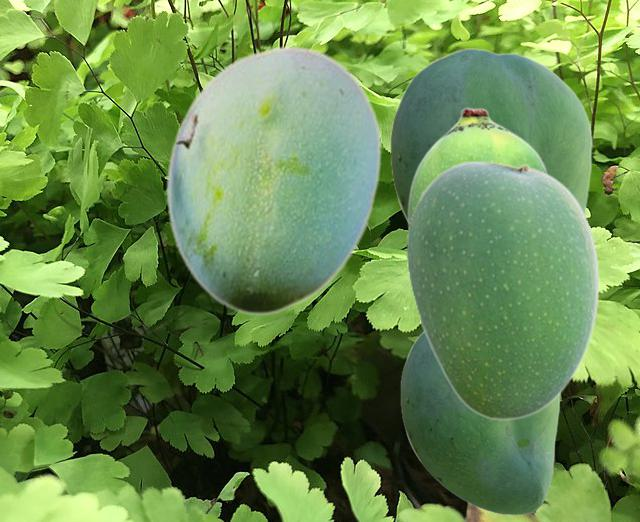green_mango: (165, 45, 381, 314), (406, 160, 599, 419), (390, 48, 591, 221), (400, 331, 559, 514), (407, 107, 549, 232)
